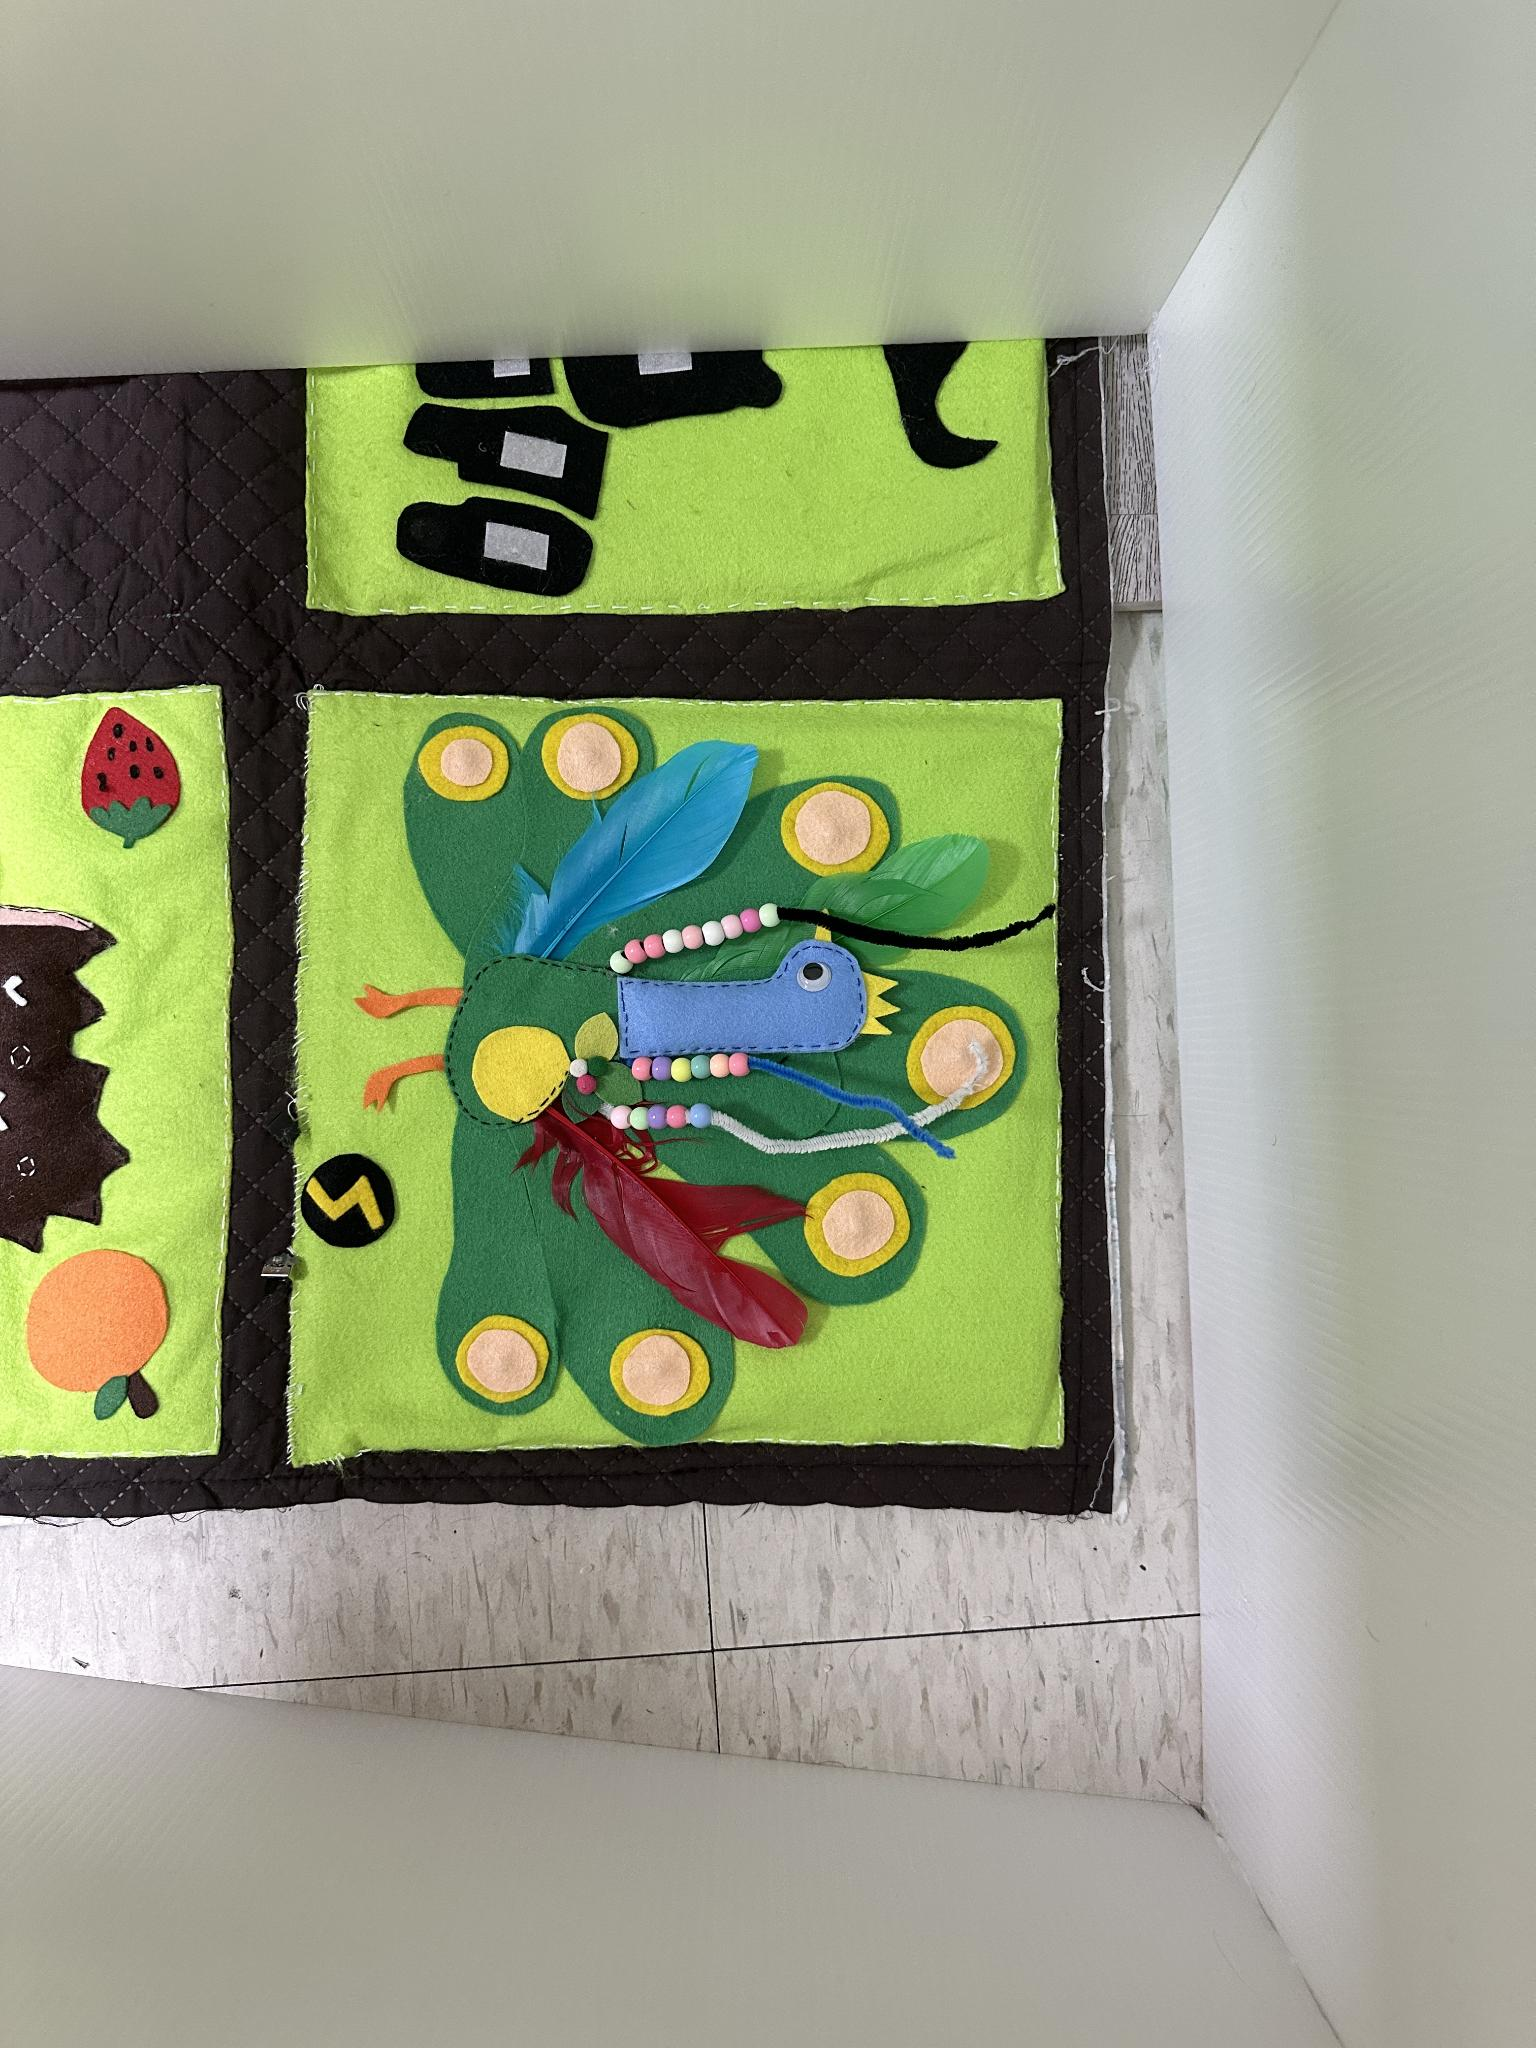bead: (644, 934, 666, 956), (660, 929, 681, 951), (666, 1103, 686, 1126), (623, 942, 644, 961), (682, 927, 703, 947), (700, 924, 723, 942), (691, 1103, 708, 1126), (721, 916, 741, 935), (671, 1056, 686, 1082), (710, 1056, 726, 1079), (650, 1058, 666, 1080), (610, 953, 629, 971), (760, 903, 778, 922), (647, 1106, 666, 1124), (611, 1106, 628, 1127), (632, 1056, 649, 1077), (731, 1053, 745, 1076), (742, 911, 760, 929), (629, 1111, 647, 1129), (692, 1055, 705, 1077)
